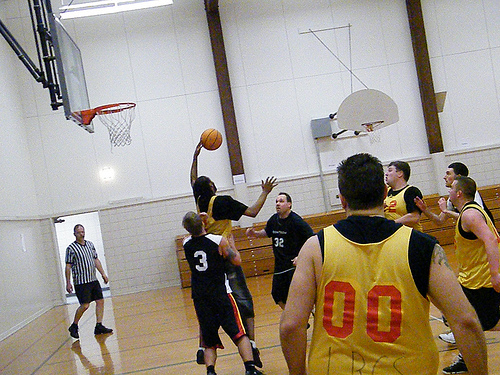basketball: (200, 128, 223, 151)
